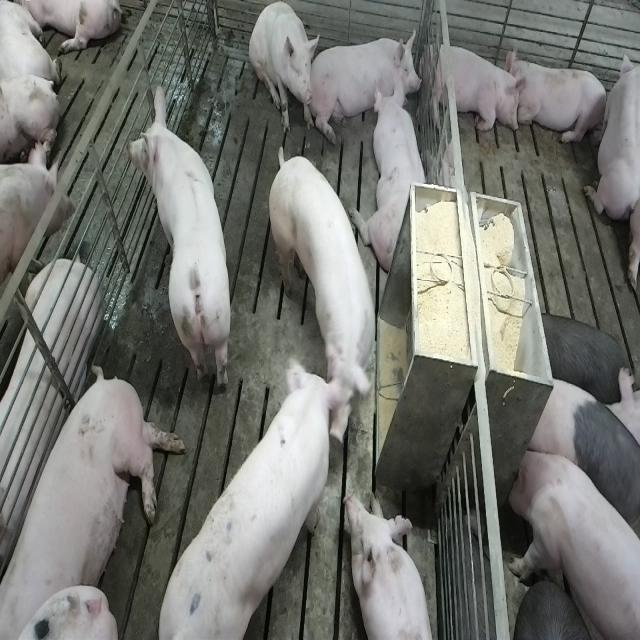Lateral_lying: (4, 362, 187, 636), (0, 258, 103, 574)
Sitting: (249, 2, 318, 134)
Standing: (154, 358, 363, 640), (124, 81, 231, 398), (504, 441, 638, 640), (524, 368, 638, 543), (0, 143, 75, 360), (536, 307, 630, 407)
Sternal_lying: (348, 490, 438, 640), (362, 83, 431, 273), (313, 28, 419, 132), (425, 38, 525, 139), (509, 51, 609, 149), (584, 40, 637, 224)
